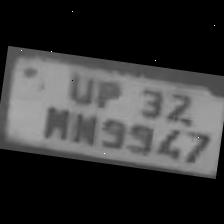2: (160, 86, 197, 124)
3: (132, 81, 166, 119)
4: (152, 120, 187, 161)
7: (178, 124, 211, 164)
9: (122, 116, 156, 156), (94, 112, 128, 150)
N: (37, 98, 74, 140), (66, 106, 100, 146)
P: (91, 72, 127, 110)
U: (61, 66, 98, 106)
